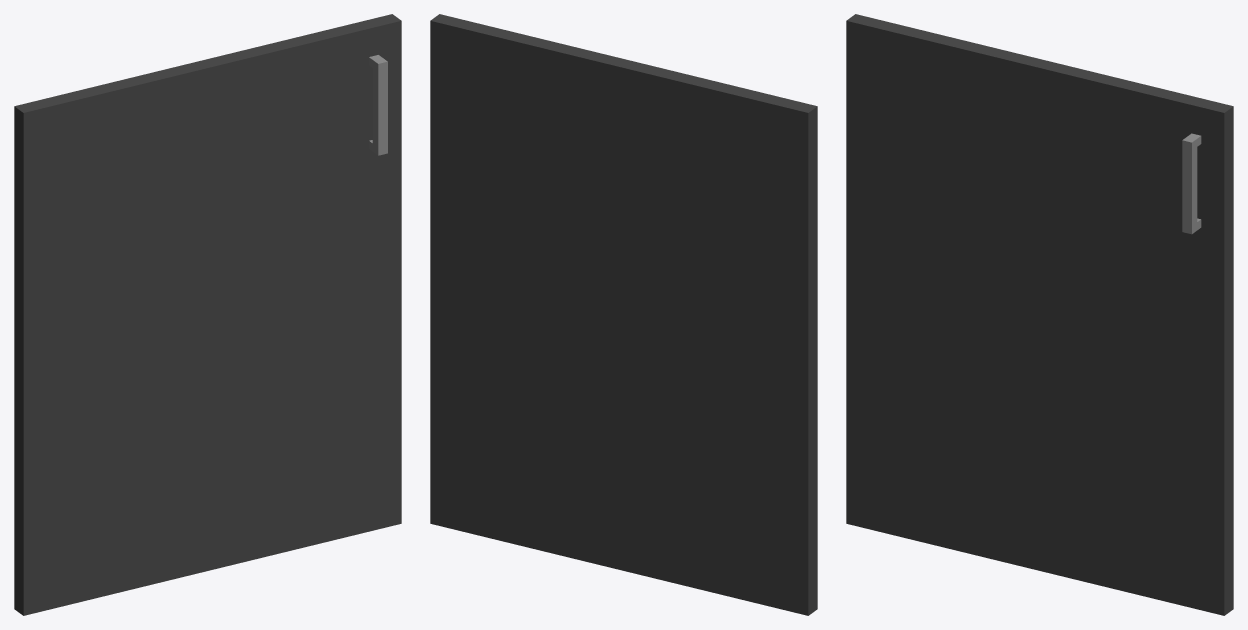
File: Door1_C3_02.fbx
3 renders of one model, left to right at view 1: azimuth 30°, elevation 25°; view 2: azimuth 150°, elevation 25°; view 3: azimuth 330°, elevation 25°, orthographic.
Visible parts, largest first — view 1: Door1_C3_02; view 2: Door1_C3_02; view 3: Door1_C3_02.
Boxes of the visible parts, box(x1,y1,x2,y2) form: Door1_C3_02: box(14, 14, 401, 615); Door1_C3_02: box(430, 14, 817, 615); Door1_C3_02: box(846, 14, 1233, 615).
Size of the model in its own units: 59 by 75 by 5.03.
